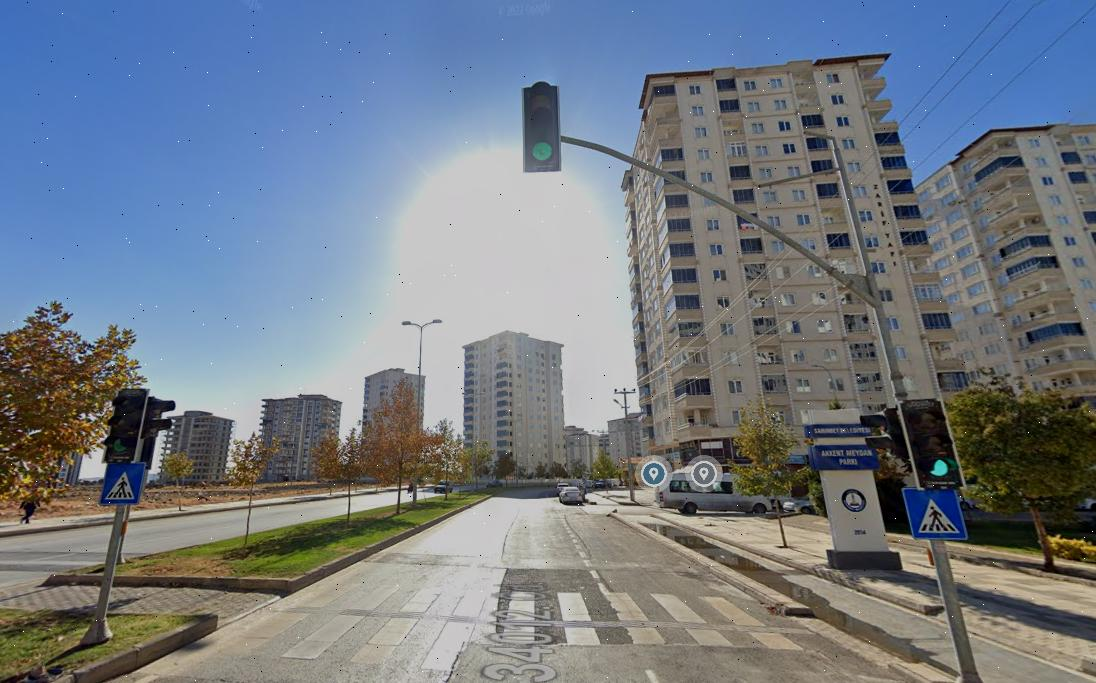greenlight: (903, 392, 961, 495), (525, 82, 560, 171), (109, 391, 142, 460)
